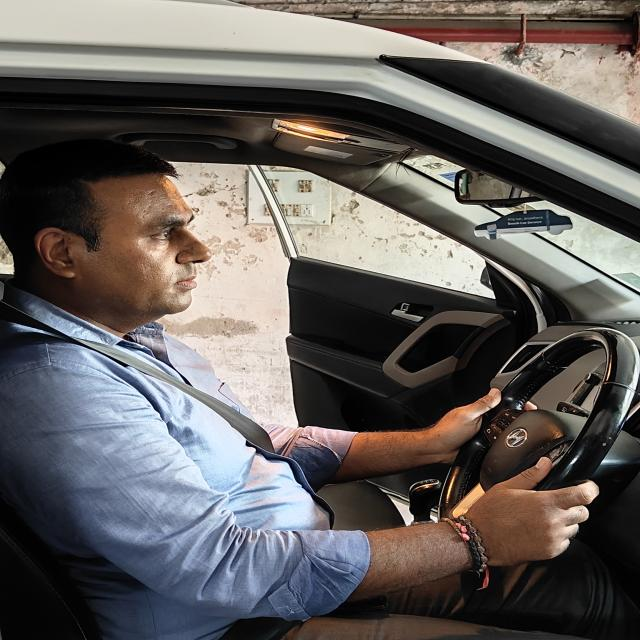seatbelt: (0, 284, 393, 640)
